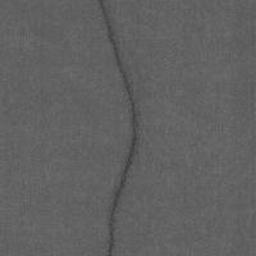Inclusion: (97, 1, 142, 256)
